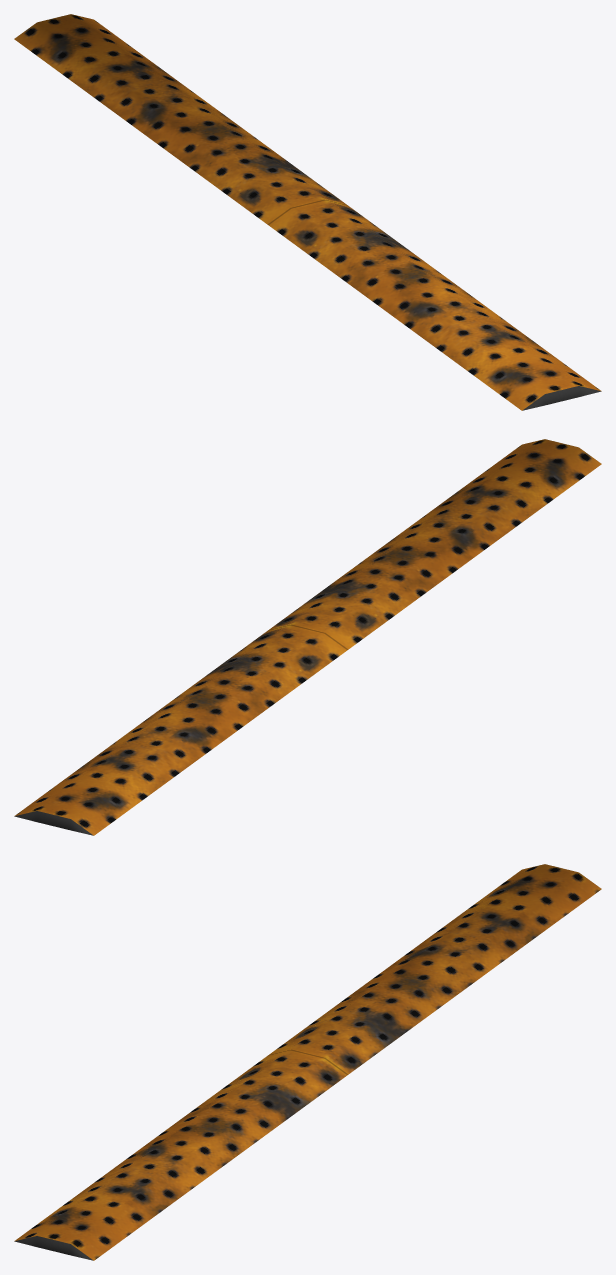
The model's file is set_02.FBX.
3 views of the same model, one above another, from view 1: azimuth 30°, elevation 25°; view 2: azimuth 150°, elevation 25°; view 3: azimuth 330°, elevation 25° (orthographic).
Visible parts, largest first — view 1: set_02; view 2: set_02; view 3: set_02.
Part boxes in pixels (x1=…): set_02: x1=14, y1=14, x2=601, y2=410; set_02: x1=14, y1=439, x2=601, y2=835; set_02: x1=14, y1=864, x2=601, y2=1260.
Size of the model in its own units: 79.97 by 10.81 by 879.
